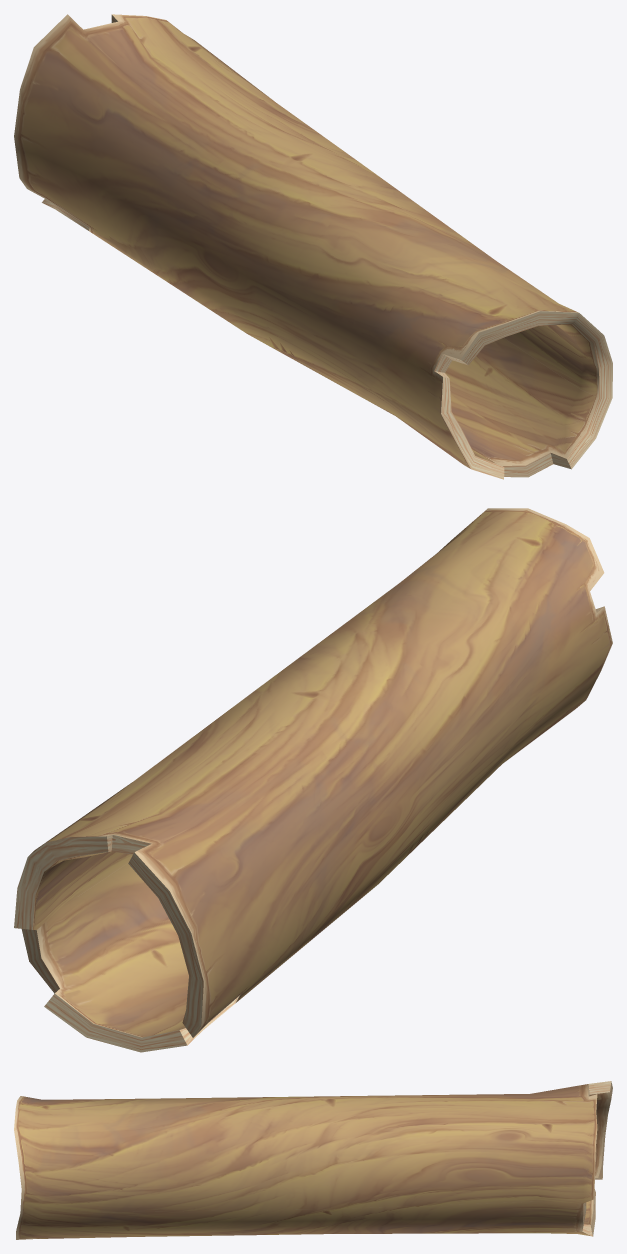
Rendered from SM_ENV_treetrunk_ancient_05.fbx.
3 renders of one model, top to bottom at view 1: azimuth 30°, elevation 25°; view 2: azimuth 150°, elevation 25°; view 3: azimuth 270°, elevation 25°, orthographic. The views are drawn at different scales.
Parts seen in each view (by area): view 1: SM_ENV_treetrunk_ancient_05_LOD0; view 2: SM_ENV_treetrunk_ancient_05_LOD0; view 3: SM_ENV_treetrunk_ancient_05_LOD0.
Boxes of the visible parts, box(x1,y1,x2,y2) form: SM_ENV_treetrunk_ancient_05_LOD0: box(14, 14, 612, 479); SM_ENV_treetrunk_ancient_05_LOD0: box(14, 508, 612, 1052); SM_ENV_treetrunk_ancient_05_LOD0: box(14, 1081, 612, 1239).
Size of what is drawn, in the model's own units: 102 by 94.54 by 373.
